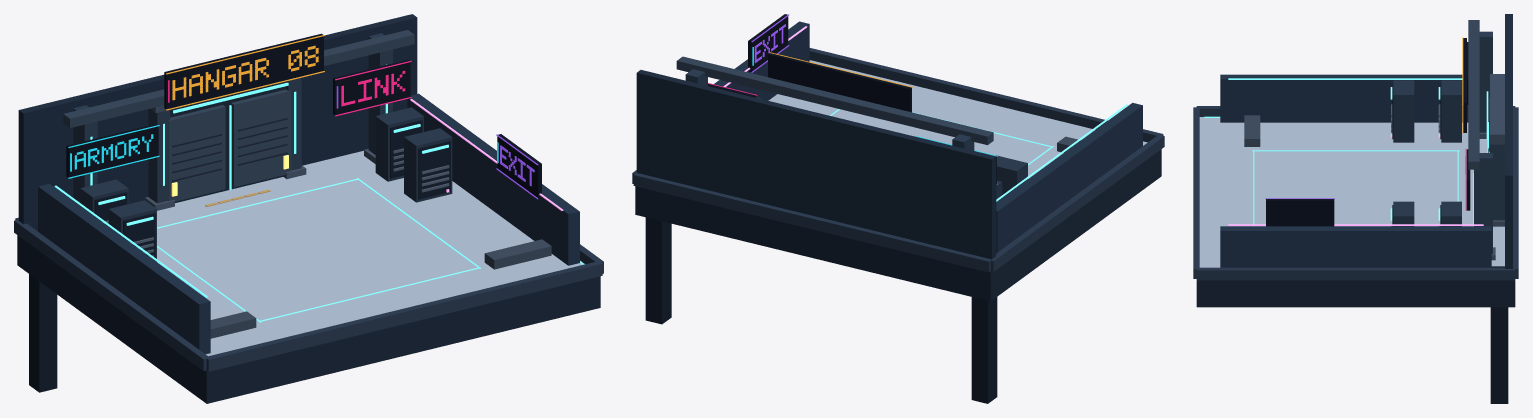
File: waiting.glb
The picture shows the model from 3 angles, left to right: view 1: azimuth 30°, elevation 25°; view 2: azimuth 150°, elevation 25°; view 3: azimuth 270°, elevation 25°; orthographic projection. The views are drawn at different scales.
Parts seen in each view (by area): view 1: 출격 격납고, Floor_Alloy, Neon_HANGAR_08, Luminous_Lettering (×3), Neon_ARMORY, Neon_LINK, Neon_EXIT; view 2: 출격 격납고, Floor_Alloy, Neon_HANGAR_08, Neon_EXIT; view 3: 출격 격납고, Floor_Alloy, Neon_EXIT, Neon_HANGAR_08, Neon_LINK.
Part boxes in pixels (left/top/right/bottom): 출격 격납고: left=14, top=14, right=603, bottom=403; Floor_Alloy: left=157, top=150, right=584, bottom=356; Neon_HANGAR_08: left=164, top=33, right=324, bottom=110; Luminous_Lettering (×3): left=74, top=45, right=405, bottom=169; Neon_ARMORY: left=66, top=123, right=159, bottom=178; Neon_LINK: left=333, top=59, right=411, bottom=116; Neon_EXIT: left=496, top=134, right=541, bottom=199; 출격 격납고: left=632, top=21, right=1164, bottom=403; Floor_Alloy: left=768, top=60, right=1147, bottom=178; Neon_HANGAR_08: left=768, top=52, right=912, bottom=112; Neon_EXIT: left=748, top=14, right=789, bottom=72; 출격 격납고: left=1193, top=14, right=1518, bottom=403; Floor_Alloy: left=1199, top=117, right=1504, bottom=267; Neon_EXIT: left=1265, top=198, right=1334, bottom=226; Neon_HANGAR_08: left=1462, top=37, right=1466, bottom=133; Neon_LINK: left=1465, top=149, right=1470, bottom=210.
Bounding box in the file's own units: 24.4 × 17.72 × 20.4.
